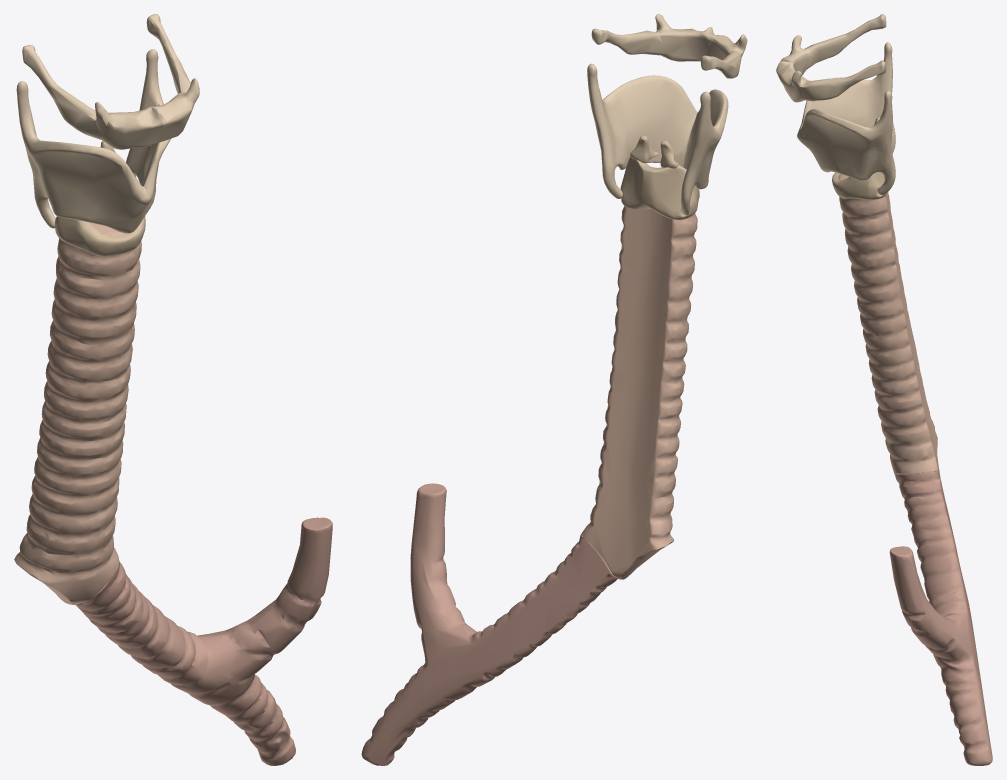
The model's file is anesthesia-airway.glb.
3 renders of one model, left to right at view 1: azimuth 30°, elevation 25°; view 2: azimuth 150°, elevation 25°; view 3: azimuth 270°, elevation 25°, orthographic. The views are drawn at different scales.
Parts seen in each view (by area): view 1: FJ2541 · trachea, FJ2450 · left main bronchus, FJ2772 · bone organ; FJ2808 · thyroid cartilage; FJ3201 · bo, FJ2440 · cricoid cartilage; FJ2769 · cricoid cartilage; FJ27; view 2: FJ2541 · trachea, FJ2450 · left main bronchus, FJ2772 · bone organ; FJ2808 · thyroid cartilage; FJ3201 · bo, FJ2440 · cricoid cartilage; FJ2769 · cricoid cartilage; FJ27; view 3: FJ2541 · trachea, FJ2450 · left main bronchus, FJ2772 · bone organ; FJ2808 · thyroid cartilage; FJ3201 · bo, FJ2440 · cricoid cartilage; FJ2769 · cricoid cartilage; FJ27.
Boxes of the visible parts, left/top/right/bottom form: FJ2541 · trachea: left=14, top=222, right=141, bottom=605; FJ2450 · left main bronchus: left=76, top=517, right=332, bottom=765; FJ2772 · bone organ; FJ2808 · thyroid cartilage; FJ3201 · bo: left=16, top=14, right=199, bottom=233; FJ2440 · cricoid cartilage; FJ2769 · cricoid cartilage; FJ27: left=55, top=141, right=145, bottom=256; FJ2541 · trachea: left=582, top=206, right=697, bottom=579; FJ2450 · left main bronchus: left=361, top=483, right=618, bottom=765; FJ2772 · bone organ; FJ2808 · thyroid cartilage; FJ3201 · bo: left=587, top=14, right=747, bottom=215; FJ2440 · cricoid cartilage; FJ2769 · cricoid cartilage; FJ27: left=620, top=135, right=699, bottom=219; FJ2541 · trachea: left=838, top=174, right=940, bottom=478; FJ2450 · left main bronchus: left=889, top=471, right=992, bottom=765; FJ2772 · bone organ; FJ2808 · thyroid cartilage; FJ3201 · bo: left=776, top=14, right=895, bottom=195; FJ2440 · cricoid cartilage; FJ2769 · cricoid cartilage; FJ27: left=832, top=117, right=886, bottom=199.
Size of the model in its own units: 1.41 by 3.35 by 1.04.
